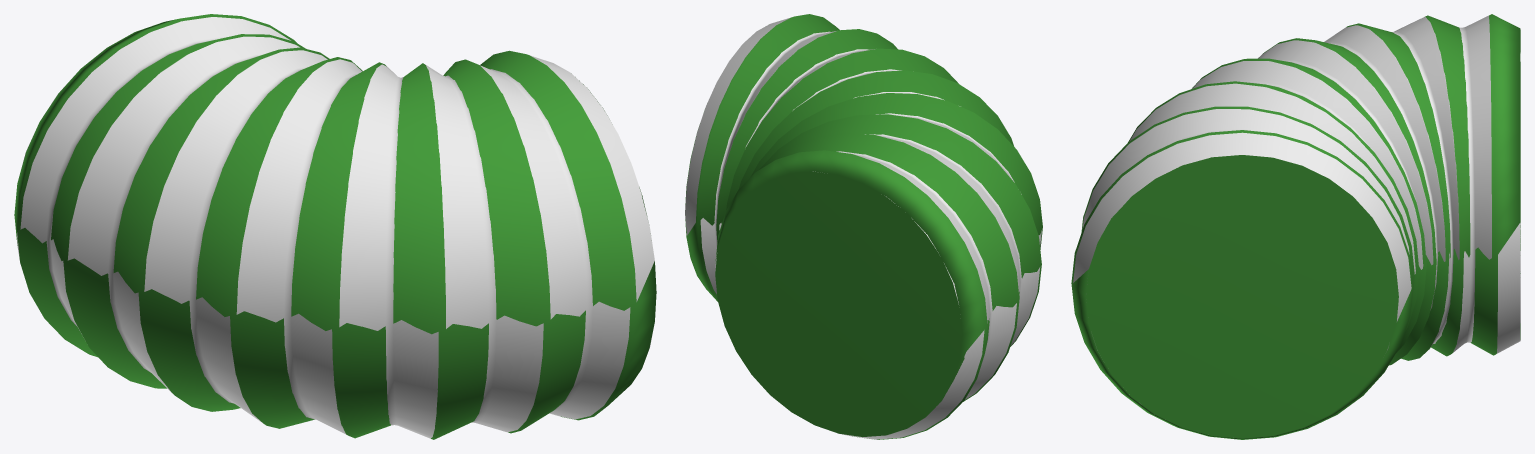
The model's file is DuctPipeElbow_01_Mesh.fbx.
The picture shows the model from 3 angles, left to right: view 1: azimuth 30°, elevation 25°; view 2: azimuth 150°, elevation 25°; view 3: azimuth 270°, elevation 25°; orthographic projection. The views are drawn at different scales.
Parts seen in each view (by area): view 1: Duct_PipeElbow_01_LOD0, Duct_PipeElbow_01_Col; view 2: Duct_PipeElbow_01_Col, Duct_PipeElbow_01_LOD0; view 3: Duct_PipeElbow_01_Col, Duct_PipeElbow_01_LOD0.
Part boxes in pixels (<box>): Duct_PipeElbow_01_LOD0: <box>17,17,654,438</box>; Duct_PipeElbow_01_Col: <box>14,14,656,439</box>; Duct_PipeElbow_01_Col: <box>685,14,1042,439</box>; Duct_PipeElbow_01_LOD0: <box>685,17,1041,439</box>; Duct_PipeElbow_01_Col: <box>1071,14,1520,439</box>; Duct_PipeElbow_01_LOD0: <box>1073,15,1520,394</box>.
Size of what is drawn, in the model's own units: 97.99 by 76.87 by 101.
